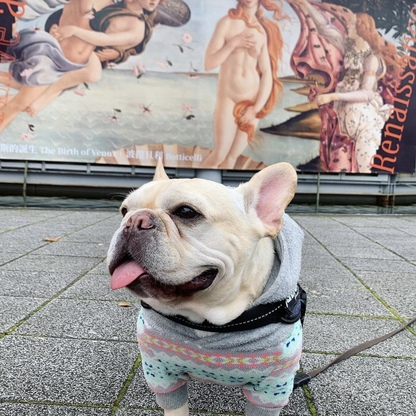bulldog: (101, 155, 311, 416)
